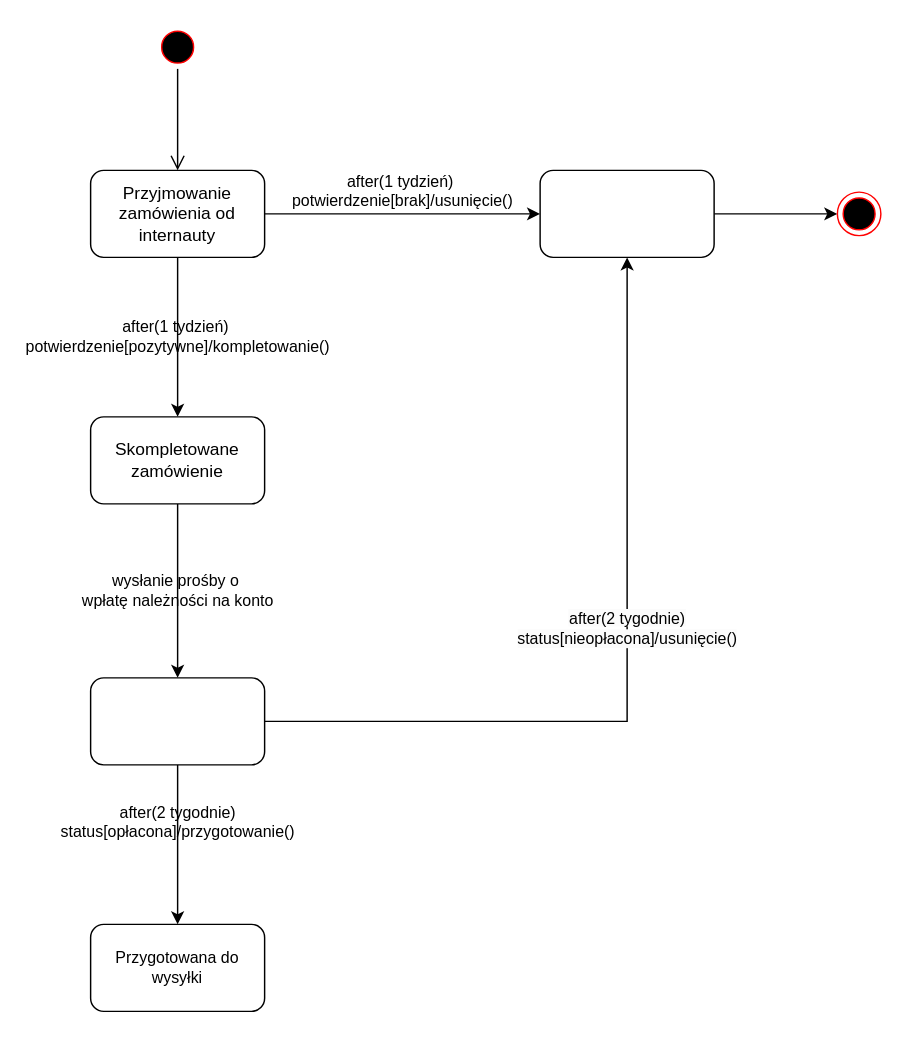
Image size: 906x1037. Some labels were removed from this diagram. Each missing label, with the centre of its shape:
Prośba wysłana: (177,720)
Usunięte zamówienie: (626,213)
